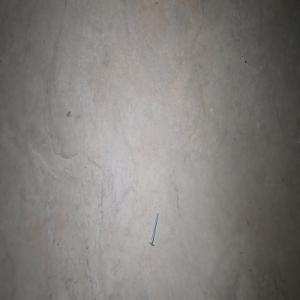Bolt: (149, 211, 158, 246)
